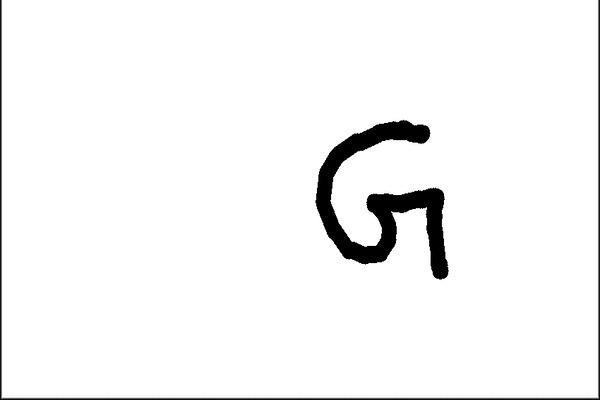G: (310, 115, 468, 284)
